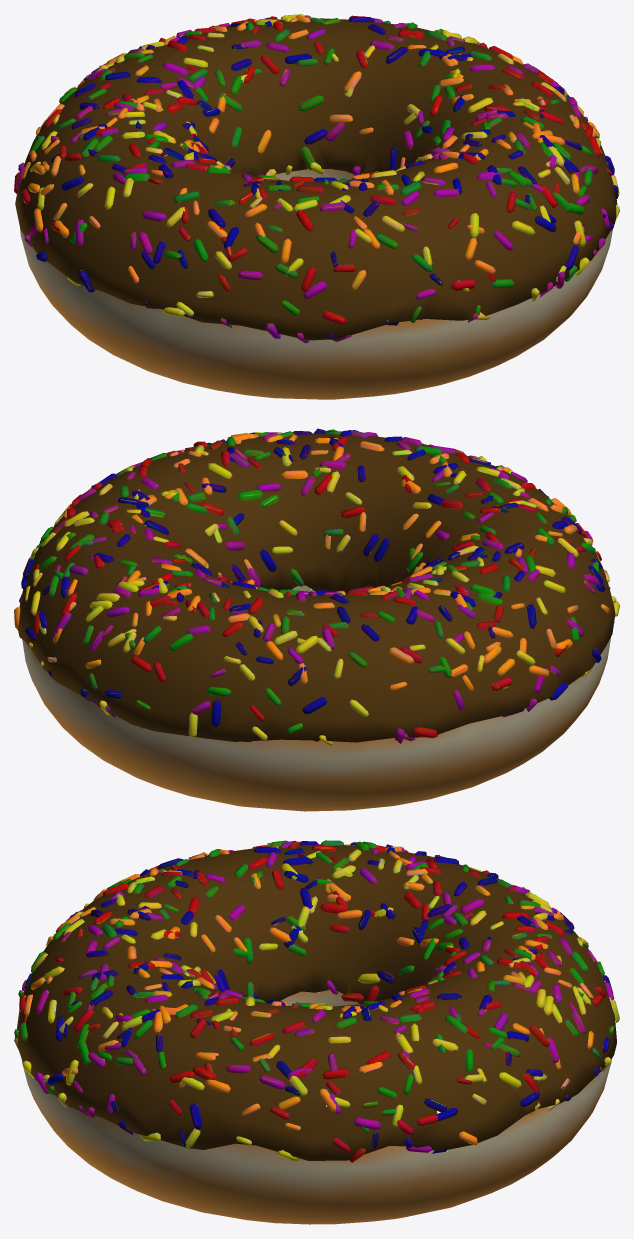
Rendered from national_donut_day.glb.
3 views of the same model, one above another, from view 1: azimuth 30°, elevation 25°; view 2: azimuth 150°, elevation 25°; view 3: azimuth 270°, elevation 25° (orthographic).
Parts seen in each view (by area): view 1: Donut.003; view 2: Donut.003; view 3: Donut.003.
Part boxes in pixels (x1,y1,x2,y2): Donut.003: (14,14,619,399); Donut.003: (14,428,619,811); Donut.003: (14,840,619,1224).
Size of the model in its own units: 3.15 by 1.16 by 3.15.
Materials: 1 (1 with a texture image).
